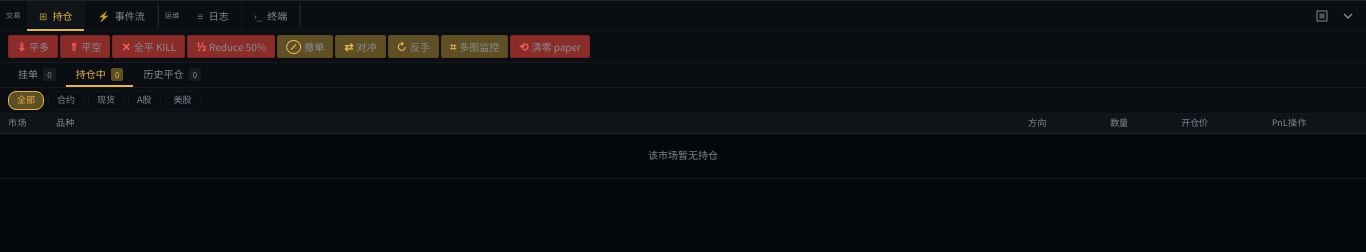
异动待批条 — 只在有料/出错时现身 › observe 档无提案 → 明说档位是 observe,不装成「暂无」
Click the button with class "dtab" showing "⚡ 事件流" at (122, 16), box [85,1,158,30]
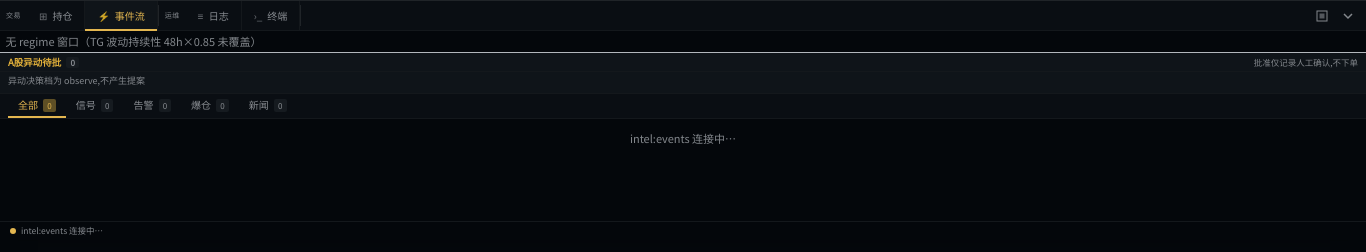
Now the text with class "ap-empty" shows "observe", box [8,74,145,87]
